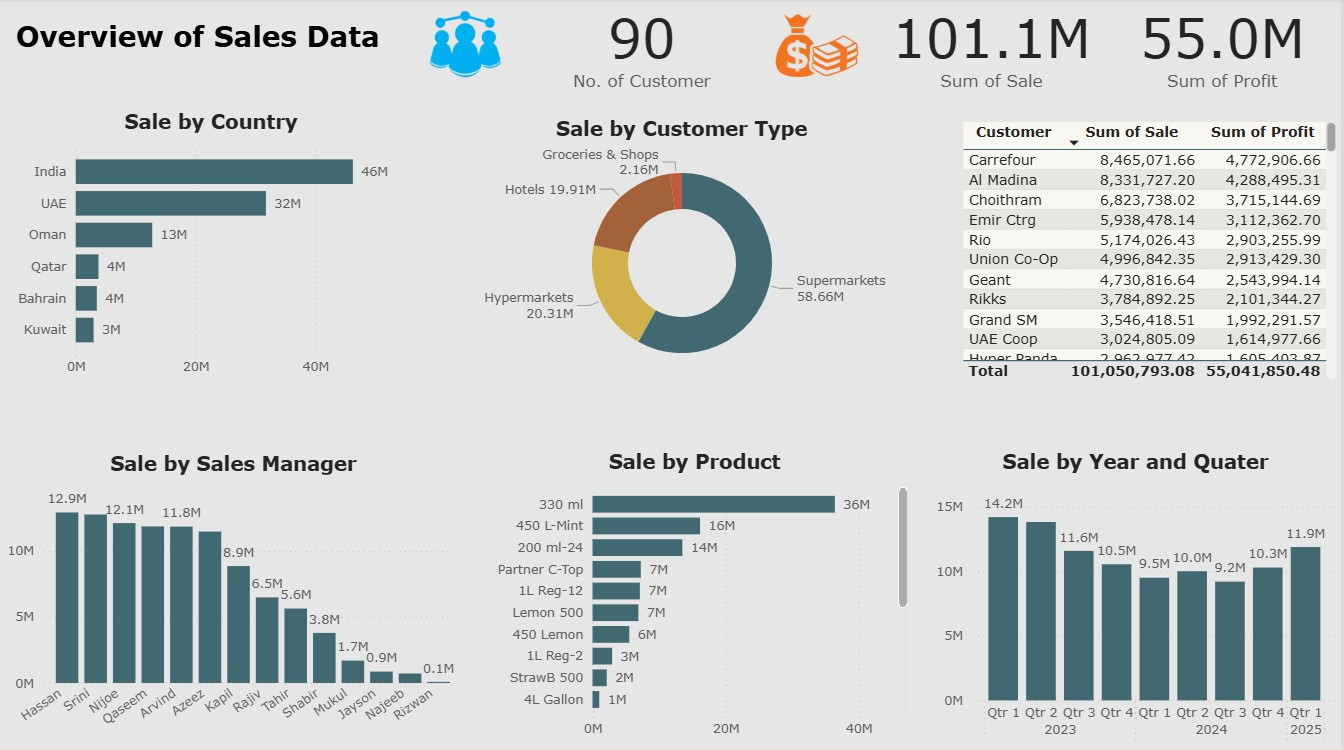

The page's visual inventory and layout, read from the dashboard file:
{"tool":"powerbi","page":{"name":"Dashboard 1","canvas":[1280,720],"ordinal":0},"visuals":[{"type":"textbox","box":[10.5,14.9,362.5,55.1],"z":0},{"type":"image","box":[715,10.5,130.7,70.6],"z":1000},{"type":"image","box":[379.8,7.4,128.9,73.7],"z":2000},{"type":"card","title":"No. of Customer","fields":{"Values":["Transactions.Customer"]},"box":[530.3,0,165.3,91.1],"z":3000},{"type":"card","fields":{"Values":["Transactions.Sale"]},"box":[845.8,0,202.6,91.1],"z":4000},{"type":"card","fields":{"Values":["Transactions.Profit"]},"box":[1081.9,0,171,91.1],"z":5000},{"type":"tableEx","fields":{"Values":["Transactions.Customer","Transactions.Sale","Transactions.Profit"]},"box":[913.3,112.8,366.8,256.5],"z":6000},{"type":"clusteredBarChart","title":"Sale by Country","fields":{"Category":["Transactions.Country"],"Y":["Transactions.Sale"]},"box":[0,106.1,403.1,263.3],"z":7000},{"type":"donutChart","title":"Sale by Customer Type","fields":{"Category":["Transactions.Cust_Type"],"Y":["Transactions.Sale"]},"box":[429.4,112.8,442.4,256.5],"z":8000},{"type":"clusteredColumnChart","title":"Sale by Sales Manager","fields":{"Category":["Transactions.Sales_Manager"],"Y":["Transactions.Sale"]},"box":[0,431.9,445.5,283.2],"z":9000},{"type":"clusteredBarChart","title":"Sale by Product","fields":{"Category":["Transactions.Product"],"Y":["Transactions.Sale"]},"box":[456.1,431.8,415.5,283.3],"z":10000},{"type":"clusteredColumnChart","title":"Sale by Year and  Quater","fields":{"Y":["Transactions.Sale"],"Category":["Transactions.Month.Variation.Date Hierarchy.Year","Transactions.Month.Variation.Date Hierarchy.Quarter"]},"box":[887.8,431.8,392.4,288.2],"z":11000}]}

Visuals, with their boxes in screenshot pixels (x1, y1, x2, y2), scaled from the page's 1280x720 canvas onto the 1344x750 screenshot:
textbox: 11, 16, 392, 73
image: 751, 11, 888, 84
image: 399, 8, 534, 84
"No. of Customer" card: 557, 0, 730, 95
card - Transactions.Sale: 888, 0, 1101, 95
card - Transactions.Profit: 1136, 0, 1316, 95
tableEx - Transactions.Customer x Transactions.Sale: 959, 118, 1343, 385
"Sale by Country" clusteredBarChart: 0, 111, 423, 385
"Sale by Customer Type" donutChart: 451, 118, 915, 385
"Sale by Sales Manager" clusteredColumnChart: 0, 450, 468, 745
"Sale by Product" clusteredBarChart: 479, 450, 915, 745
"Sale by Year and  Quater" clusteredColumnChart: 932, 450, 1343, 749
